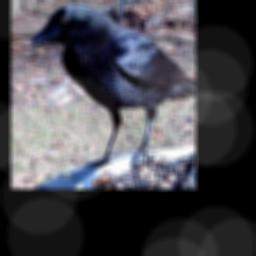Crow: (30, 4, 196, 169)
